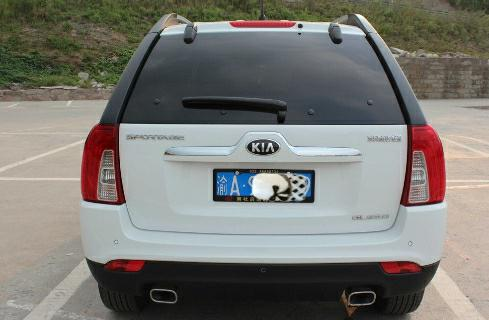起亚-佳乐: (74, 9, 455, 320)
